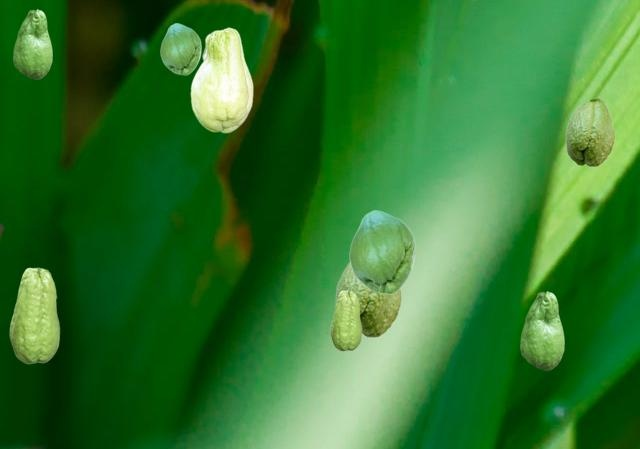sayote: (190, 27, 252, 132), (349, 210, 414, 293), (335, 262, 401, 337), (9, 267, 59, 363), (565, 97, 614, 166), (520, 291, 563, 369), (13, 9, 51, 78), (160, 23, 200, 74), (330, 290, 361, 350)
